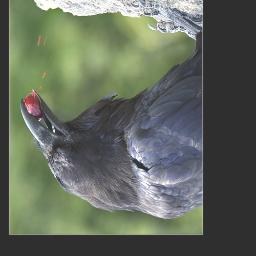Crow: (19, 0, 203, 220)
